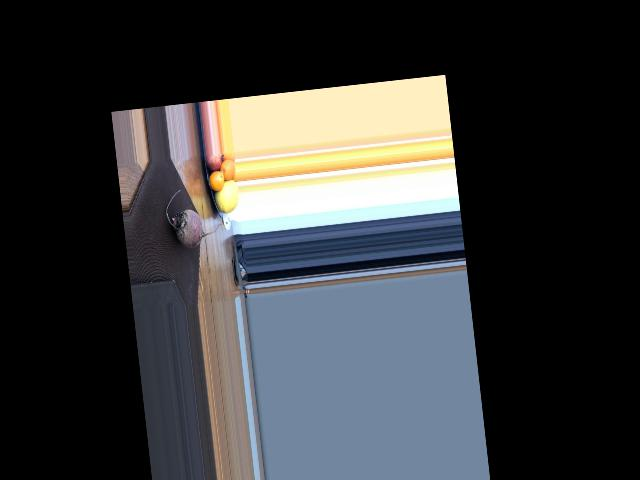beet: (163, 186, 221, 250)
